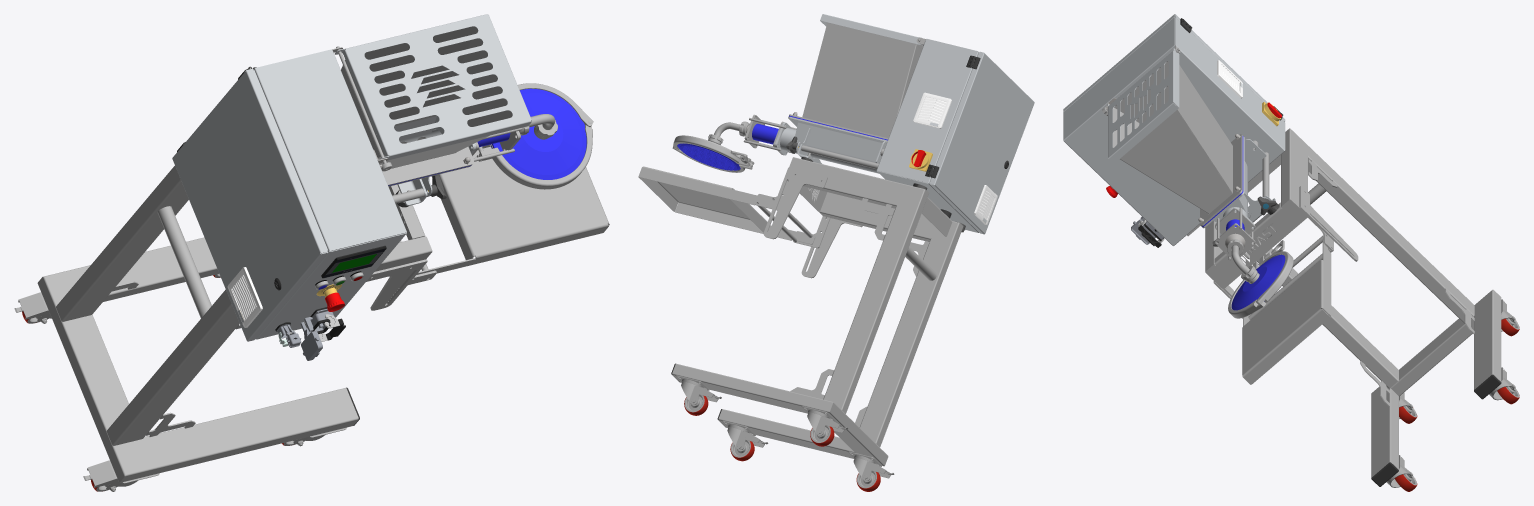
3 views of the same model, side by side, from view 1: azimuth 30°, elevation 25°; view 2: azimuth 150°, elevation 25°; view 3: azimuth 270°, elevation 25° (orthographic). The views are drawn at different scales.
Parts seen in each view (by area): view 1: Solido1 (×13), Solid1 (×8), Solido3 (×2), Superf1; view 2: Solido1 (×14), Solid1 (×7), Solido3 (×4), Solido5; view 3: Solido1 (×12), Solid1 (×8), Solido5.
Boxes of the visible parts, left/top/right/bottom form: Solido1 (×13): left=172, top=14, right=609, bottom=341; Solid1 (×8): left=37, top=166, right=431, bottom=482; Solido3 (×2): left=14, top=292, right=159, bottom=489; Superf1: left=321, top=239, right=386, bottom=278; Solido1 (×14): left=638, top=14, right=1034, bottom=278; Solid1 (×7): left=672, top=157, right=963, bottom=466; Solido3 (×4): left=675, top=375, right=894, bottom=480; Solido5: left=673, top=135, right=751, bottom=166; Solido1 (×12): left=1063, top=14, right=1358, bottom=384; Solid1 (×8): left=1131, top=128, right=1501, bottom=477; Solido5: left=1256, top=251, right=1293, bottom=304.
Bounding box in the file's own units: 1.09 × 1.32 × 1.36.
